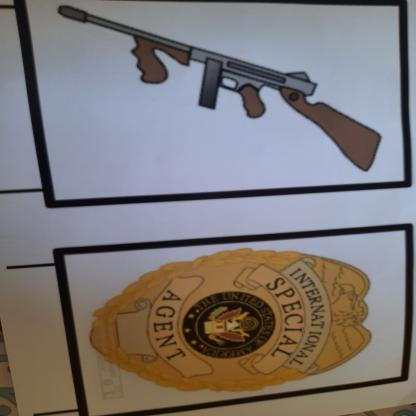Bootlegger: (35, 1, 390, 189)
G-man: (79, 240, 387, 405)
